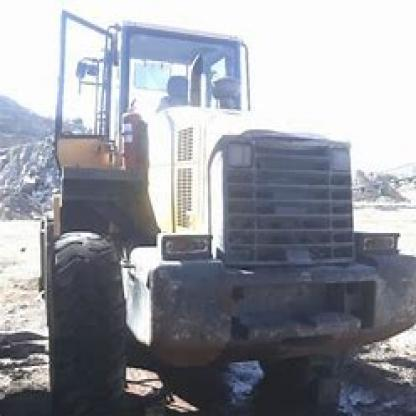bull_dozer/loader/grader: (20, 2, 414, 414)
